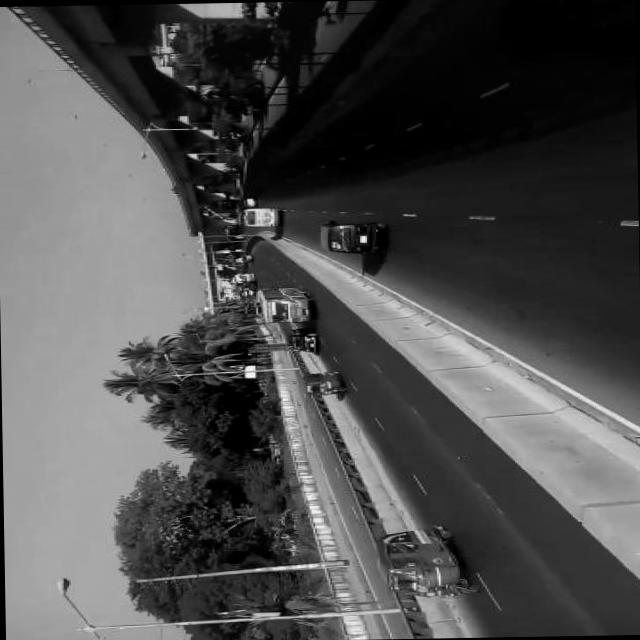bus: (250, 283, 316, 321), (238, 205, 282, 228)
car: (284, 325, 320, 351)
motorcycle: (370, 520, 484, 598), (296, 366, 348, 394)
truck: (316, 215, 390, 255)
